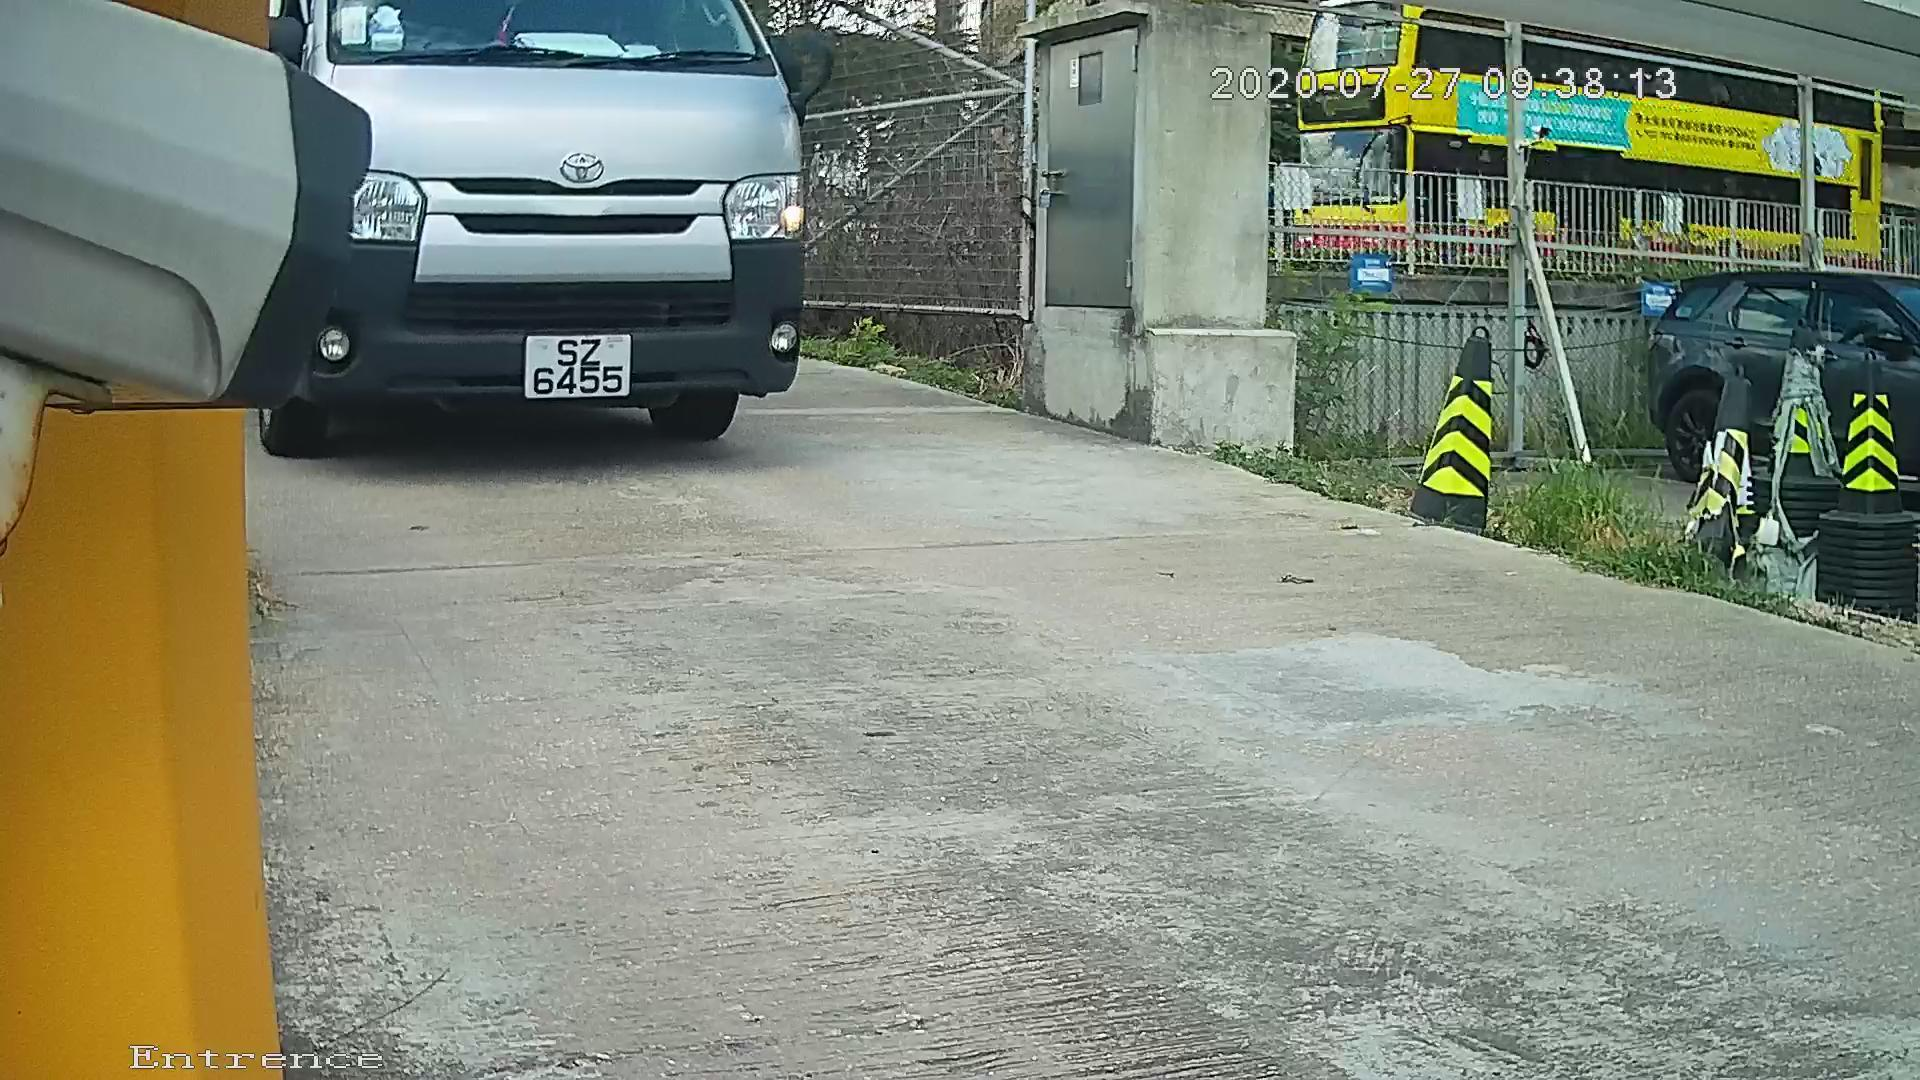Car: (163, 1, 883, 478)
License Plate: (515, 309, 643, 410)
